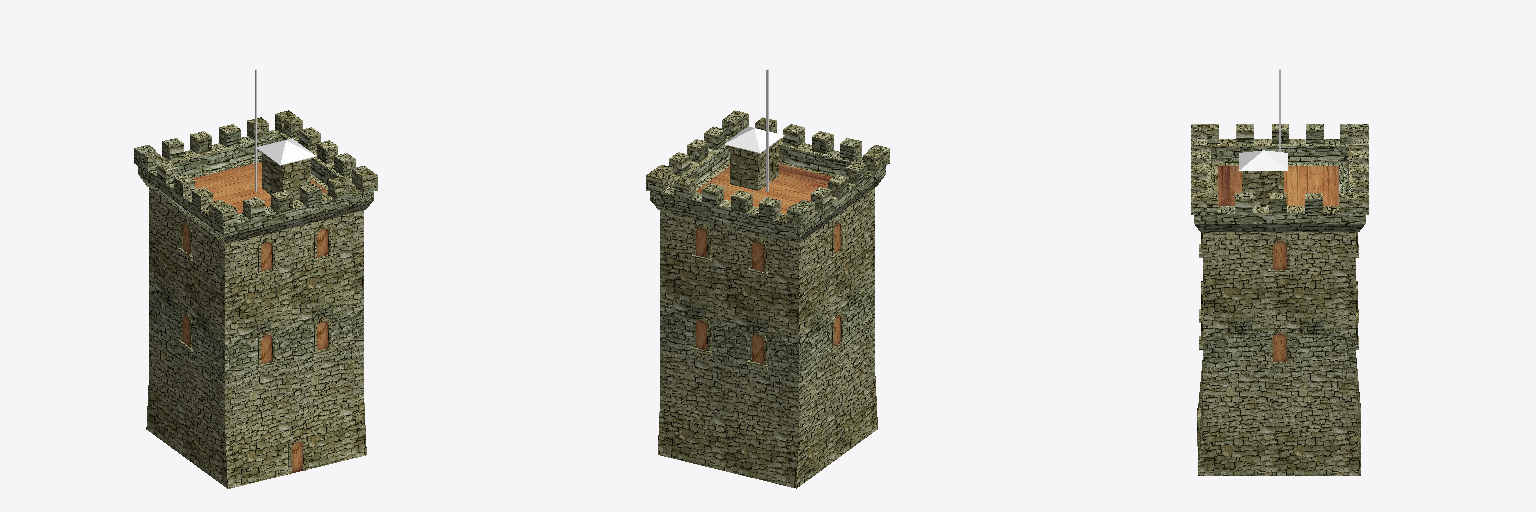
3 renders of one model, left to right at view 1: azimuth 30°, elevation 25°; view 2: azimuth 150°, elevation 25°; view 3: azimuth 270°, elevation 25°, orthographic.
Visible parts, largest first — view 1: limestone, floor, roof; view 2: limestone, floor, roof; view 3: limestone, floor, roof.
Part boxes in pixels (bbox=[...]): limestone: bbox=[134, 110, 377, 488]; floor: bbox=[183, 162, 327, 472]; roof: bbox=[255, 69, 316, 191]; limestone: bbox=[646, 110, 889, 488]; floor: bbox=[696, 164, 840, 363]; roof: bbox=[724, 69, 784, 191]; limestone: bbox=[1191, 124, 1368, 475]; floor: bbox=[1218, 166, 1338, 361]; roof: bbox=[1239, 69, 1287, 170].
Bounding box in the file's own units: 84.84 × 196 × 84.17.
Materials: 3 (2 with a texture image).